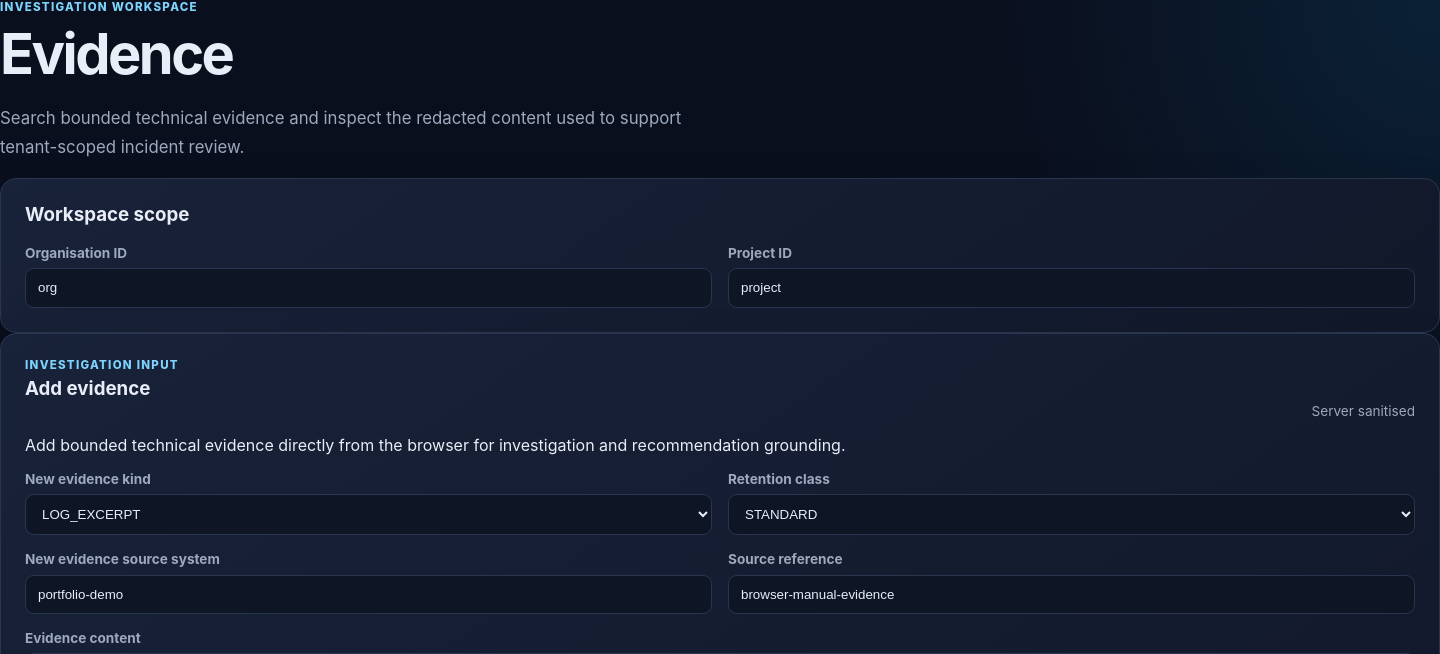
browser evidence creation › creates evidence in the selected workspace
This screenshot has width=1440, height=654.
Select "TRACE_OBSERVATION" in the dropdown labelled "New evidence kind" at (368, 515), box [25,494,712,536]
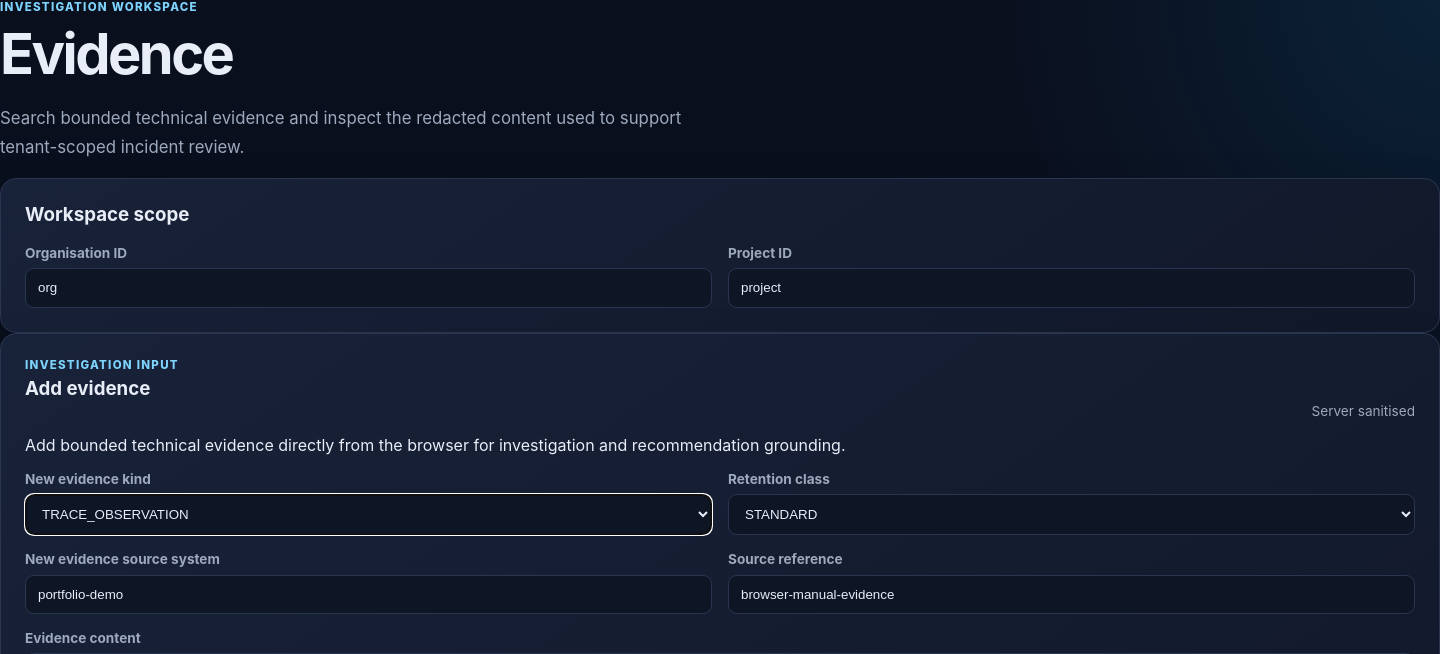
Select "EXTENDED" in the dropdown labelled "Retention class" at (1072, 515), box [728,494,1415,536]
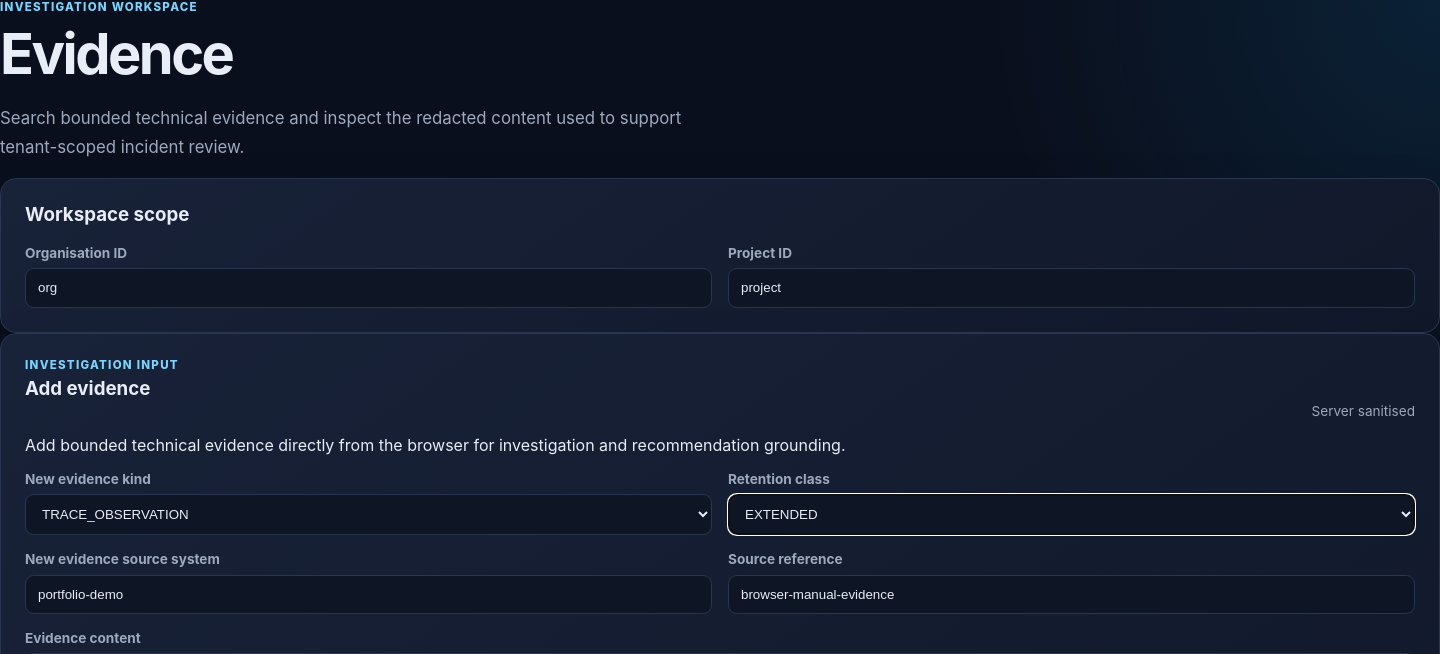
Replace the text in the field labelled "New evidence source system" with "manual-demo" at (368, 594), box [25,575,712,614]
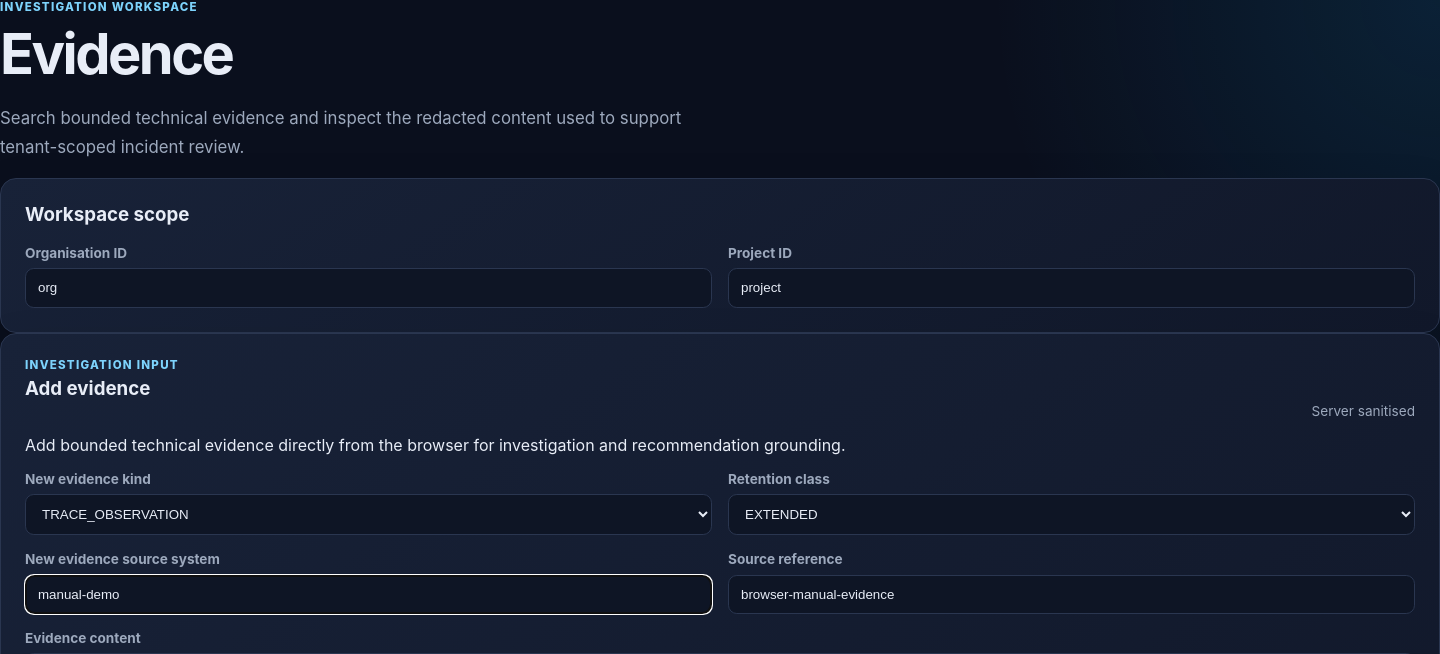
Replace the text in the field labelled "Source reference" with "dependency-signal" at (1072, 594), box [728,575,1415,614]
(page scrolled)
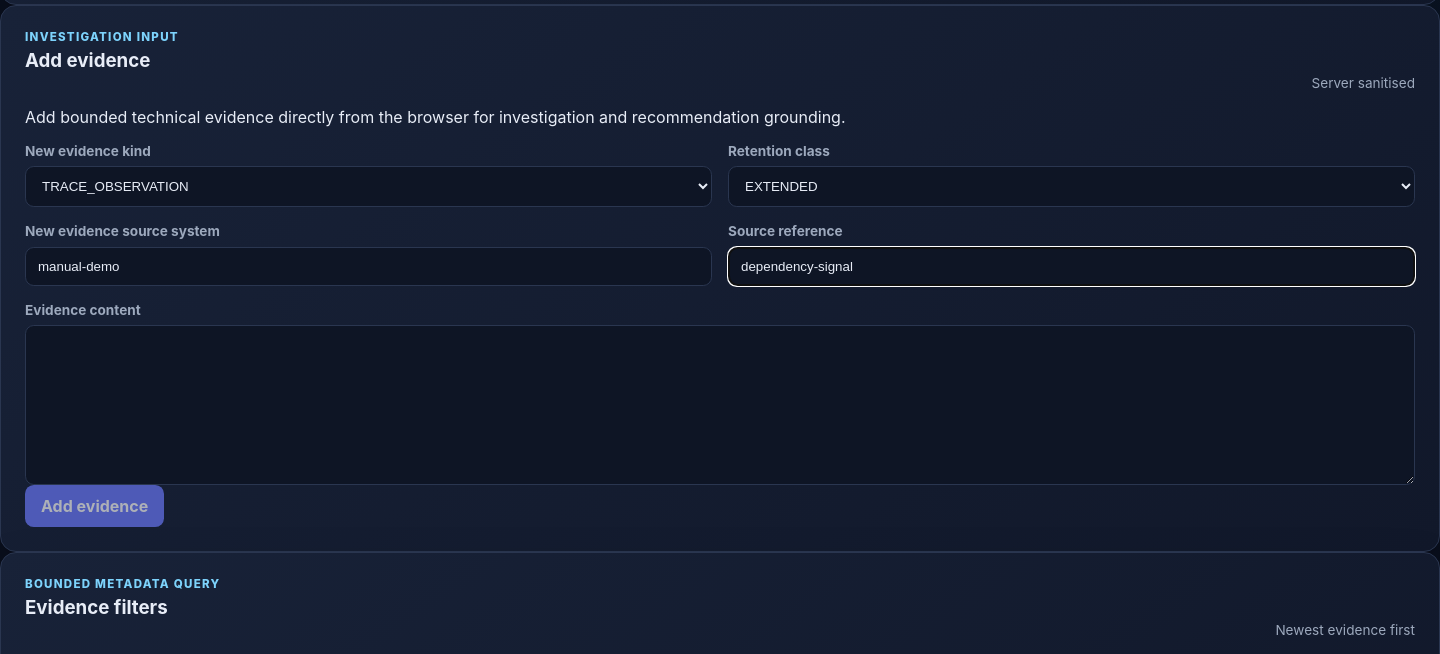
Type "connection refused to upstream dependency" into the text box labelled "Evidence content".
click(720, 405); type("connection refused to upstream dependency")  # box [25,325,1415,485]
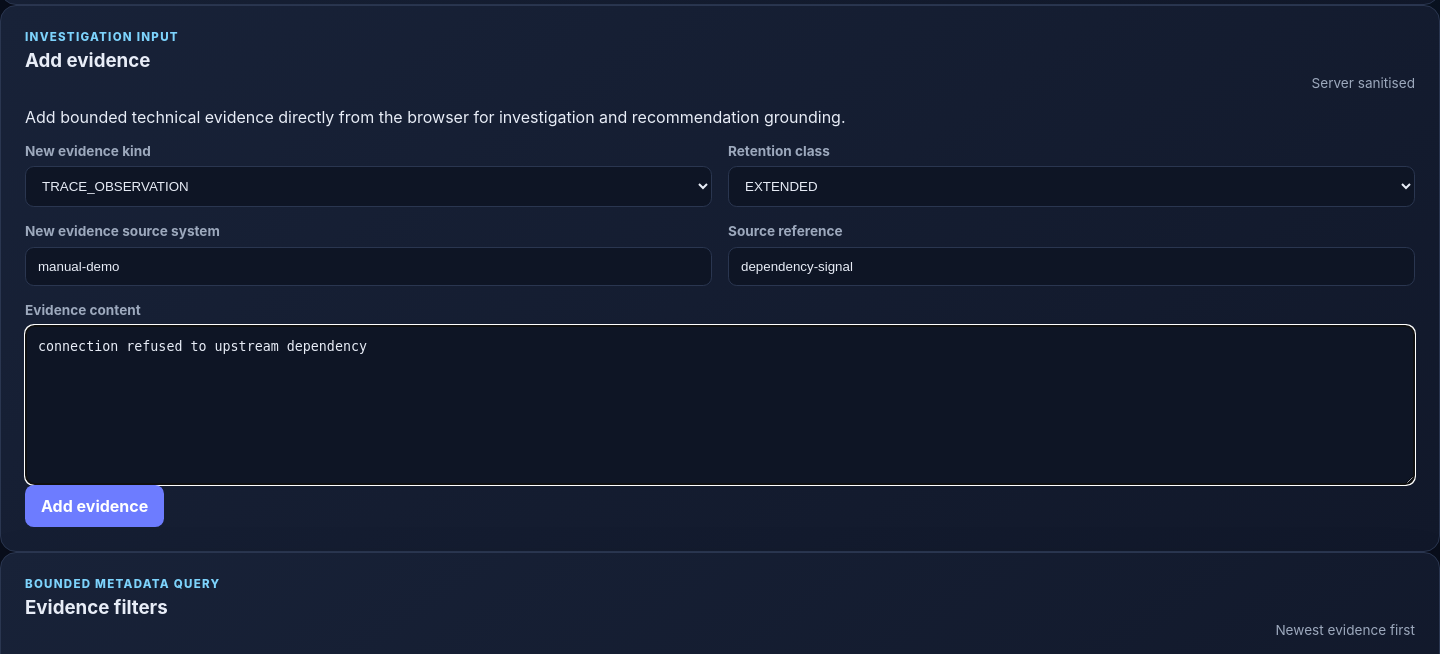
Click the button "Add evidence".
click(95, 506)  # box [25,485,164,527]
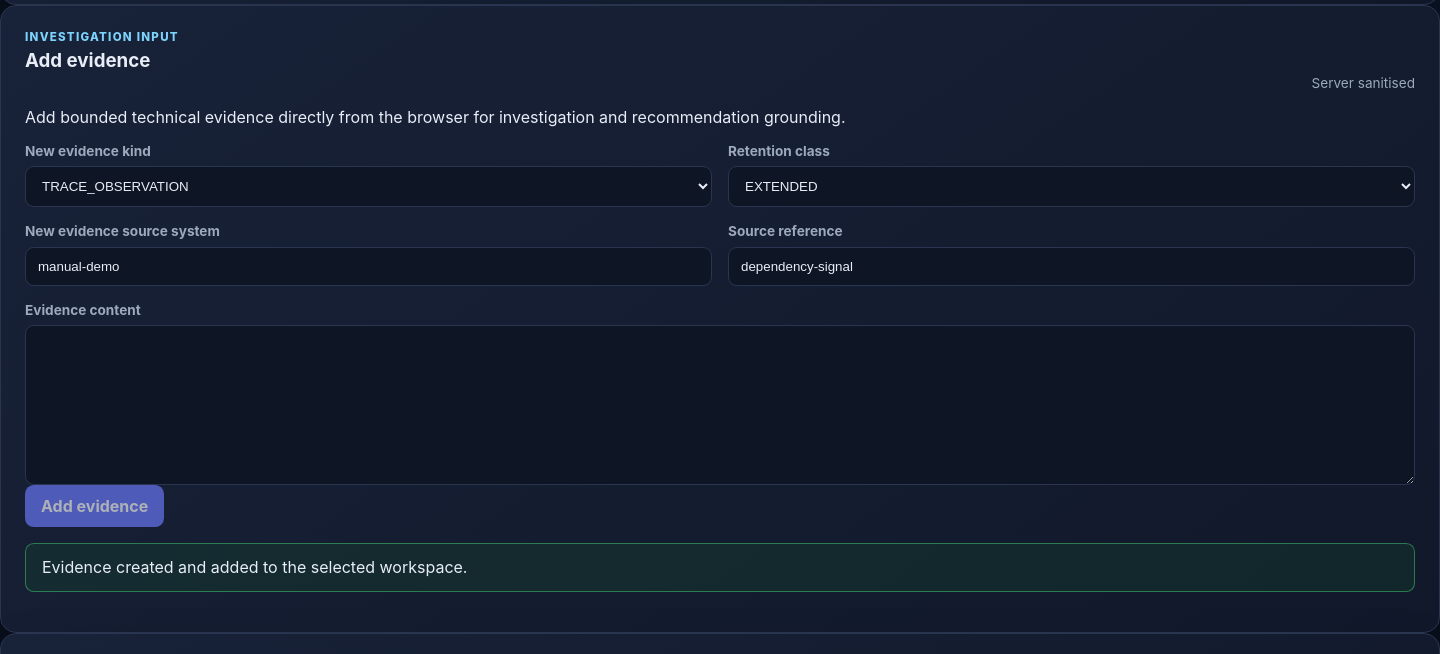
Expected: the message shows "Evidence created and added", [42,557,468,577]
